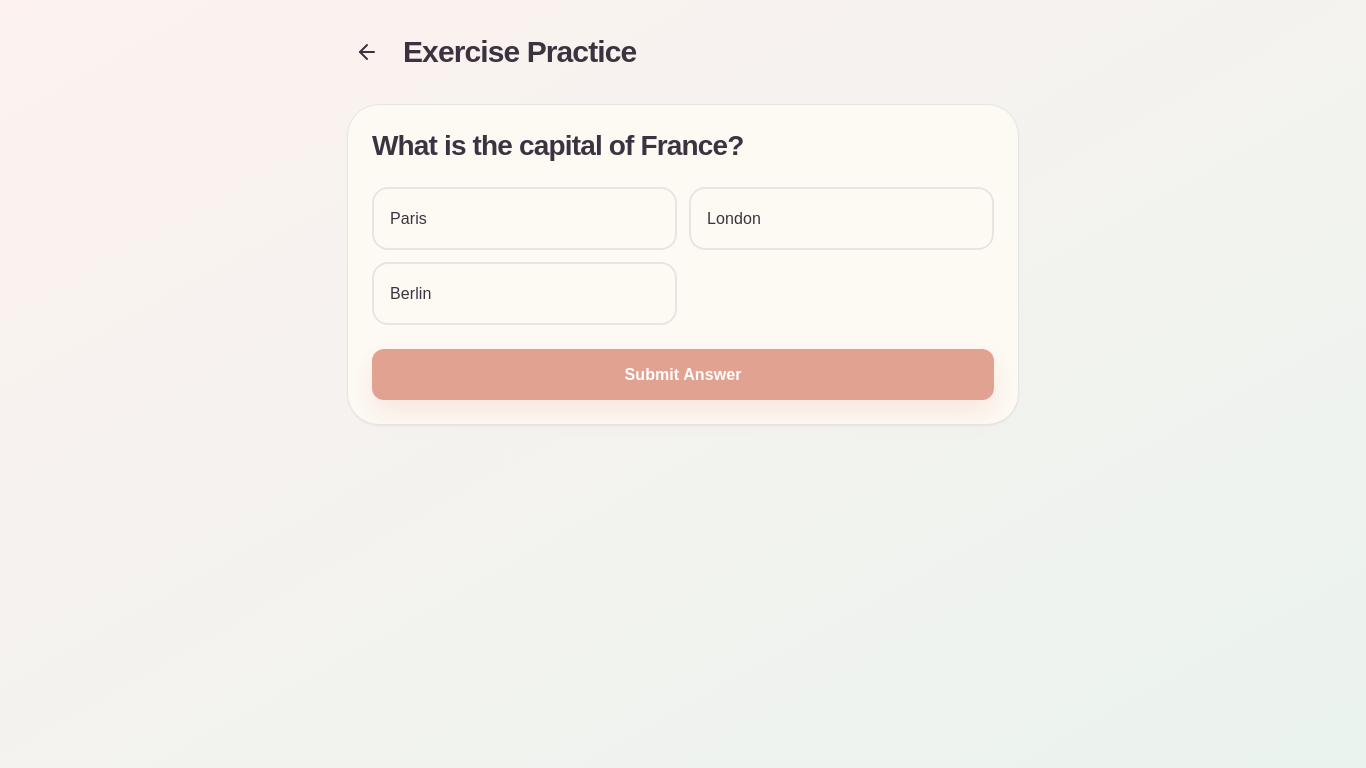
Test: ExercisePractice multiple_choice flow › lets the student select an option, submit, and see correct feedback
This screenshot has width=1366, height=768.
Expected: the heading "What is the capital of France?" is shown, [372,129,744,163]
Click the button "Paris". click: [408, 218]
box: [372,187,677,250]
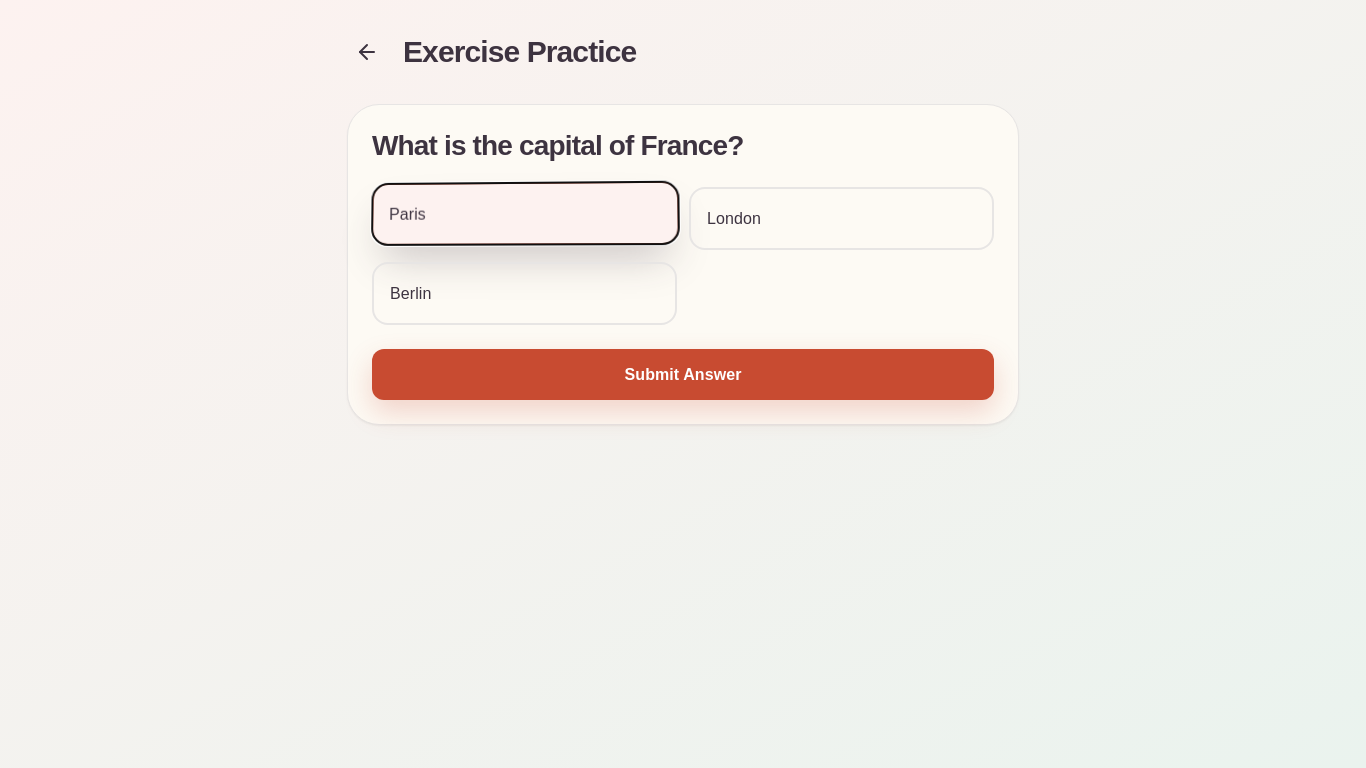
Expected: the button "Submit Answer" is enabled
Click the button "Submit Answer". click: [683, 375]
box: [372,349,994,400]
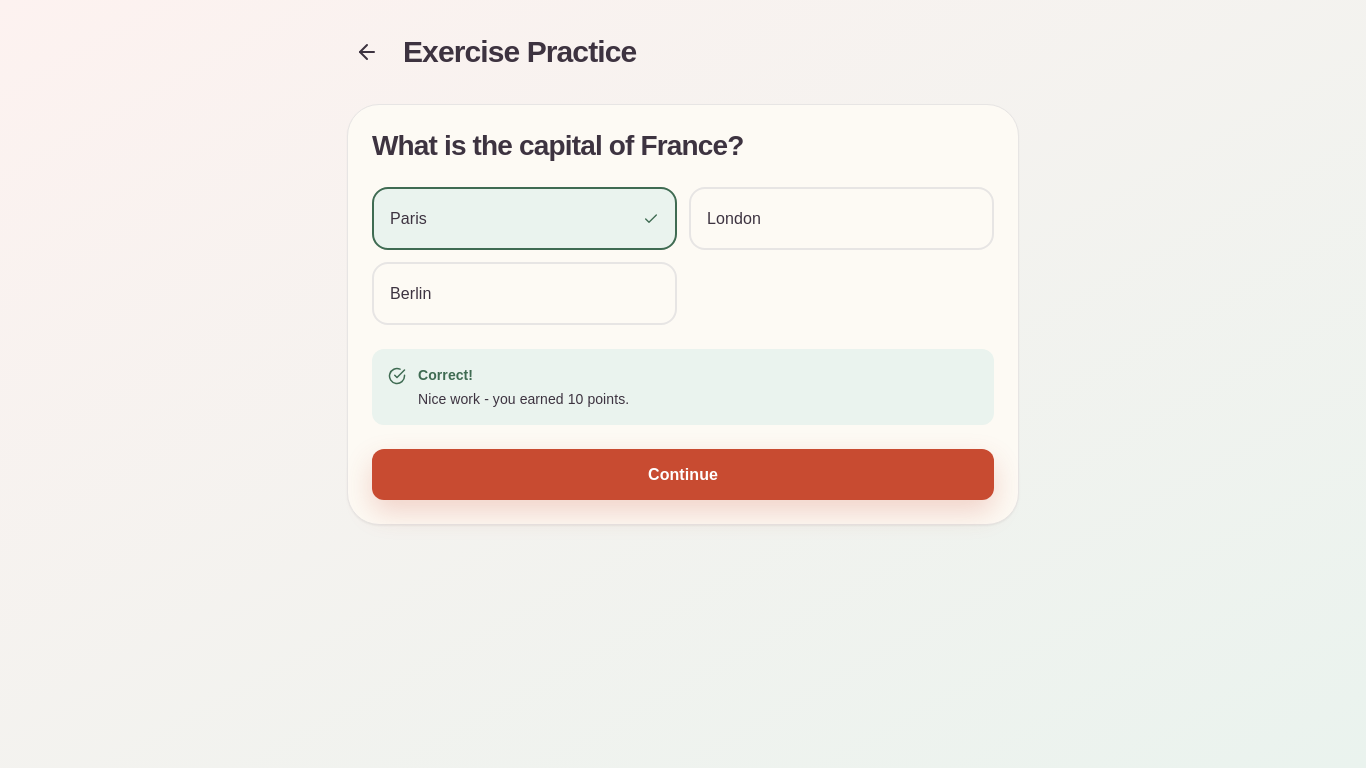
Expected: the message shows "Correct!", [418,367,473,383]
Expected: the message shows "you earned 10 points", [418,391,629,407]
